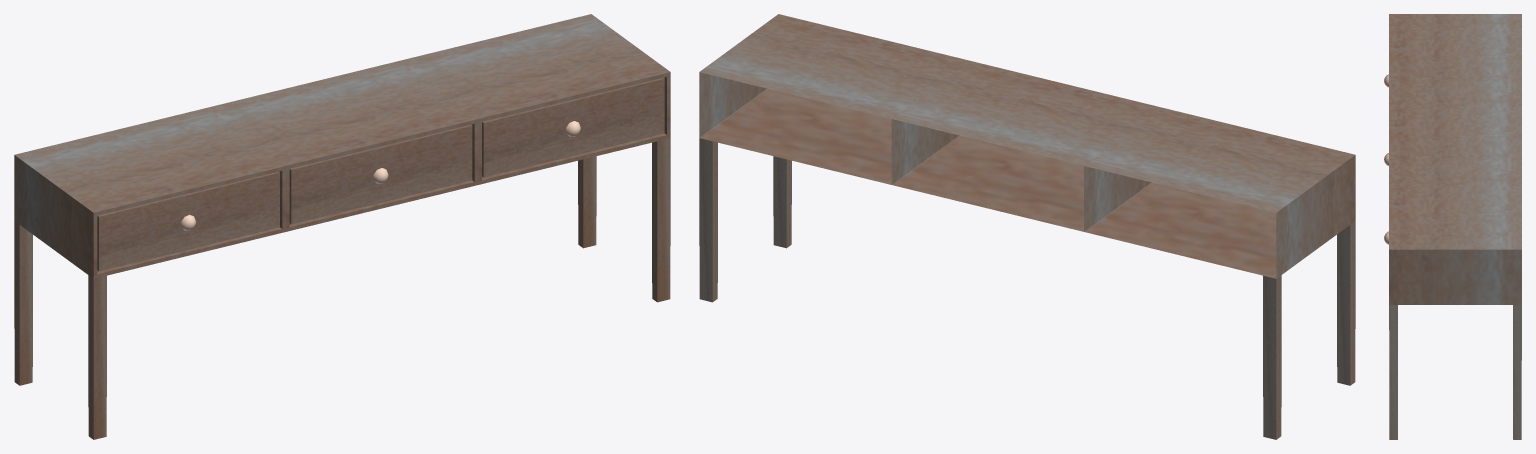
File: M_MejaPajangan.fbx
3 views of the same model, side by side, from view 1: azimuth 30°, elevation 25°; view 2: azimuth 150°, elevation 25°; view 3: azimuth 270°, elevation 25° (orthographic). The views are drawn at different scales.
Visible parts, largest first — view 1: MejaPajangan; view 2: MejaPajangan; view 3: MejaPajangan.
Boxes of the visible parts, x1,y1,x2,y2 form: MejaPajangan: (14, 14, 670, 439); MejaPajangan: (699, 14, 1355, 439); MejaPajangan: (1384, 14, 1521, 439).
Size of the model in its own units: 258 by 97.23 by 63.84.
